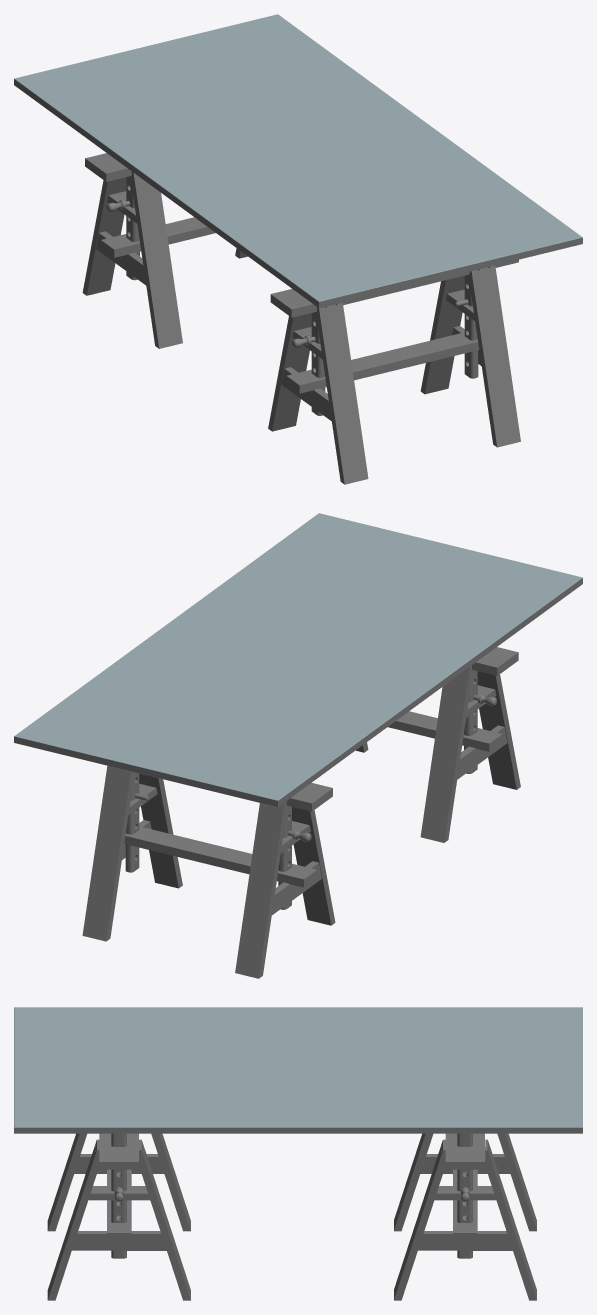
The model's file is table.FBX.
3 views of the same model, one above another, from view 1: azimuth 30°, elevation 25°; view 2: azimuth 150°, elevation 25°; view 3: azimuth 270°, elevation 25° (orthographic). The views are drawn at different scales.
Visible parts, largest first — view 1: Obj3d66-509870-31-463, Obj3d66-509870-24-705, Obj3d66-509870-16-816, Obj3d66-509870-1-543, Obj3d66-509870-19-687, Obj3d66-509870-7-678, Obj3d66-509870-22-596, Obj3d66-509870-25-475, Obj3d66-509870-4-52, Obj3d66-509870-18-355, Obj3d66-509870-30-647, Obj3d66-509870-3-955 (+2 smaller); view 2: Obj3d66-509870-31-463, Obj3d66-509870-7-678, Obj3d66-509870-10-448, Obj3d66-509870-22-596, Obj3d66-509870-4-52, Obj3d66-509870-16-816, Obj3d66-509870-1-543, Obj3d66-509870-9-469, Obj3d66-509870-19-687, Obj3d66-509870-15-729, Obj3d66-509870-18-355, Obj3d66-509870-3-955 (+2 smaller); view 3: Obj3d66-509870-31-463, Obj3d66-509870-24-705, Obj3d66-509870-9-469, Obj3d66-509870-25-475, Obj3d66-509870-10-448, Obj3d66-509870-5-652, Obj3d66-509870-20-387, Obj3d66-509870-18-355, Obj3d66-509870-3-955, Obj3d66-509870-16-816, Obj3d66-509870-22-596, Obj3d66-509870-7-678 (+9 smaller).
Part boxes in pixels (x1,y1,x2,y2): Obj3d66-509870-31-463: (14, 14, 582, 308); Obj3d66-509870-24-705: (468, 265, 520, 447); Obj3d66-509870-16-816: (316, 302, 368, 484); Obj3d66-509870-1-543: (130, 171, 182, 348); Obj3d66-509870-19-687: (286, 332, 479, 393); Obj3d66-509870-7-678: (82, 177, 126, 295); Obj3d66-509870-22-596: (268, 313, 311, 431); Obj3d66-509870-25-475: (420, 275, 464, 394); Obj3d66-509870-4-52: (101, 217, 215, 257); Obj3d66-509870-18-355: (270, 259, 518, 317); Obj3d66-509870-30-647: (464, 275, 478, 378); Obj3d66-509870-3-955: (85, 153, 131, 181); Obj3d66-509870-31-463: (14, 513, 582, 807); Obj3d66-509870-7-678: (235, 801, 287, 978); Obj3d66-509870-10-448: (82, 765, 134, 941); Obj3d66-509870-22-596: (420, 665, 473, 842); Obj3d66-509870-4-52: (124, 826, 317, 887); Obj3d66-509870-16-816: (477, 671, 520, 789); Obj3d66-509870-1-543: (292, 807, 335, 925); Obj3d66-509870-9-469: (139, 773, 182, 888); Obj3d66-509870-19-687: (388, 711, 502, 751); Obj3d66-509870-15-729: (125, 772, 139, 872); Obj3d66-509870-18-355: (472, 647, 518, 675); Obj3d66-509870-3-955: (286, 783, 332, 811); Obj3d66-509870-31-463: (14, 1007, 582, 1133); Obj3d66-509870-24-705: (47, 1139, 99, 1300); Obj3d66-509870-9-469: (394, 1139, 445, 1300); Obj3d66-509870-25-475: (139, 1139, 190, 1300); Obj3d66-509870-10-448: (485, 1139, 536, 1300); Obj3d66-509870-5-652: (418, 1231, 512, 1250); Obj3d66-509870-20-387: (72, 1231, 166, 1250); Obj3d66-509870-18-355: (99, 1133, 138, 1169); Obj3d66-509870-3-955: (445, 1133, 484, 1169); Obj3d66-509870-16-816: (47, 1133, 86, 1231); Obj3d66-509870-22-596: (151, 1133, 190, 1231); Obj3d66-509870-7-678: (497, 1133, 536, 1231).
Size of the model in its own units: 39.37 by 29.5 by 78.74.
